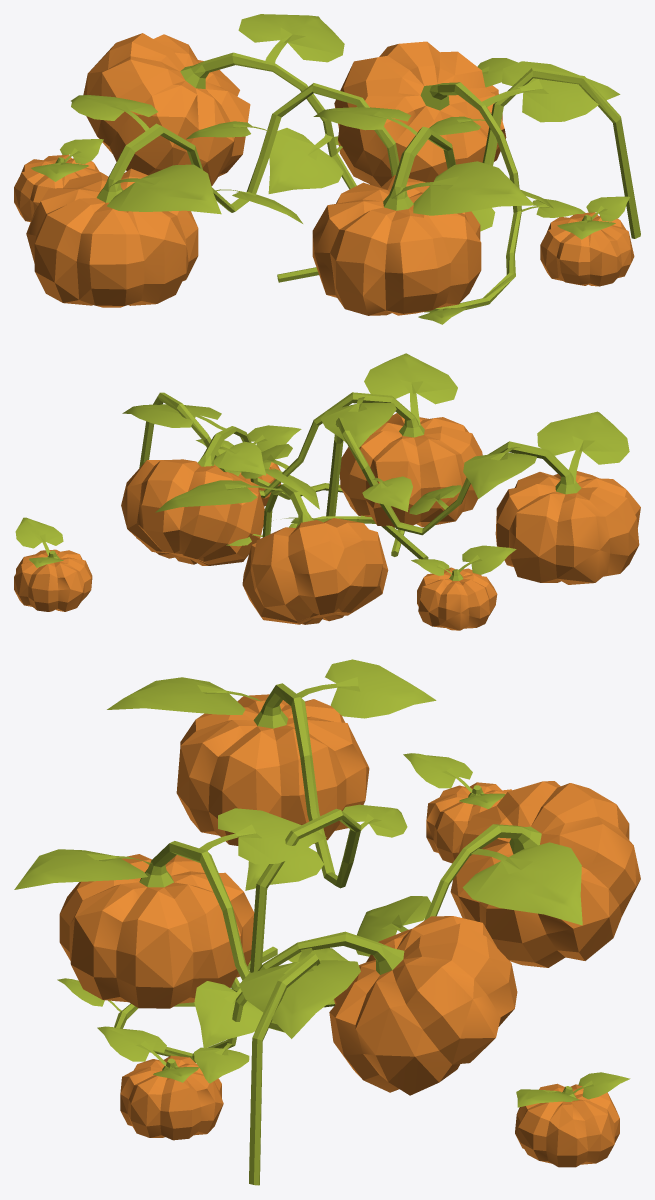
File: farm_pumpkin.FBX
3 views of the same model, one above another, from view 1: azimuth 30°, elevation 25°; view 2: azimuth 150°, elevation 25°; view 3: azimuth 270°, elevation 25° (orthographic). The views are drawn at different scales.
Parts seen in each view (by area): view 1: Sphere007; view 2: Sphere007; view 3: Sphere007.
Boxes of the visible parts, <box> form: Sphere007: <box>14,14,640,324</box>; Sphere007: <box>14,353,640,630</box>; Sphere007: <box>14,659,640,1185</box>.
Bounding box in the file's own units: 14.68 × 5.03 × 11.68.
1 material, 1 textured.
